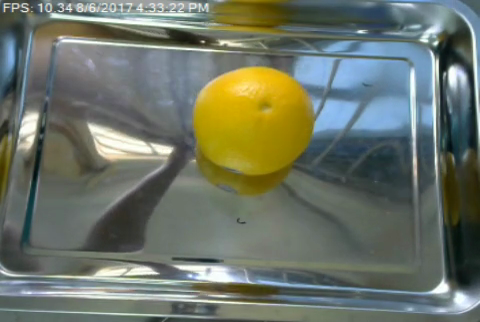Orange: (192, 66, 315, 175)
